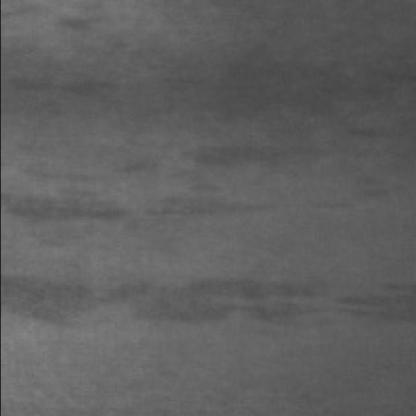inclusion: (0, 271, 412, 346), (0, 170, 287, 235), (0, 64, 137, 125), (179, 135, 341, 181), (328, 278, 412, 328)
